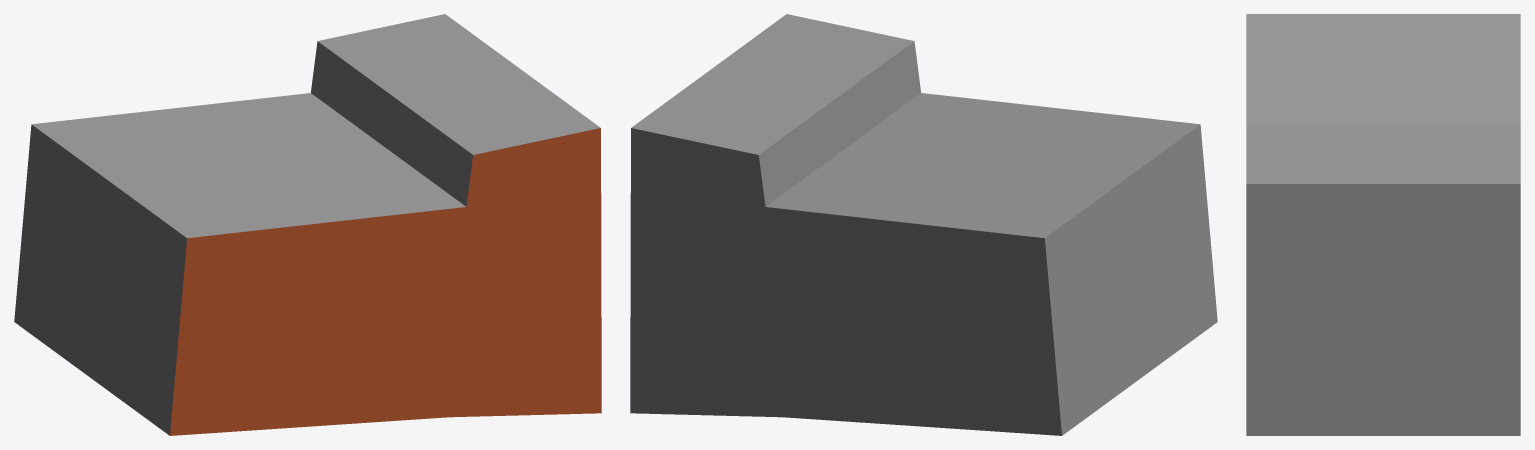
Rendered from construction_6379_assumed_A_Casa_h6m.obj.
The picture shows the model from 3 angles, left to right: view 1: azimuth 30°, elevation 25°; view 2: azimuth 150°, elevation 25°; view 3: azimuth 270°, elevation 25°; orthographic projection. The views are drawn at different scales.
Parts seen in each view (by area): view 1: construction_6379_assumed_A_Casa; view 2: construction_6379_assumed_A_Casa; view 3: construction_6379_assumed_A_Casa.
Boxes of the visible parts, bbox=[...] form: construction_6379_assumed_A_Casa: bbox=[14, 14, 601, 435]; construction_6379_assumed_A_Casa: bbox=[630, 14, 1217, 435]; construction_6379_assumed_A_Casa: bbox=[1246, 14, 1520, 435].
Bounding box in the file's own units: 9.61 × 6.16 × 6.
